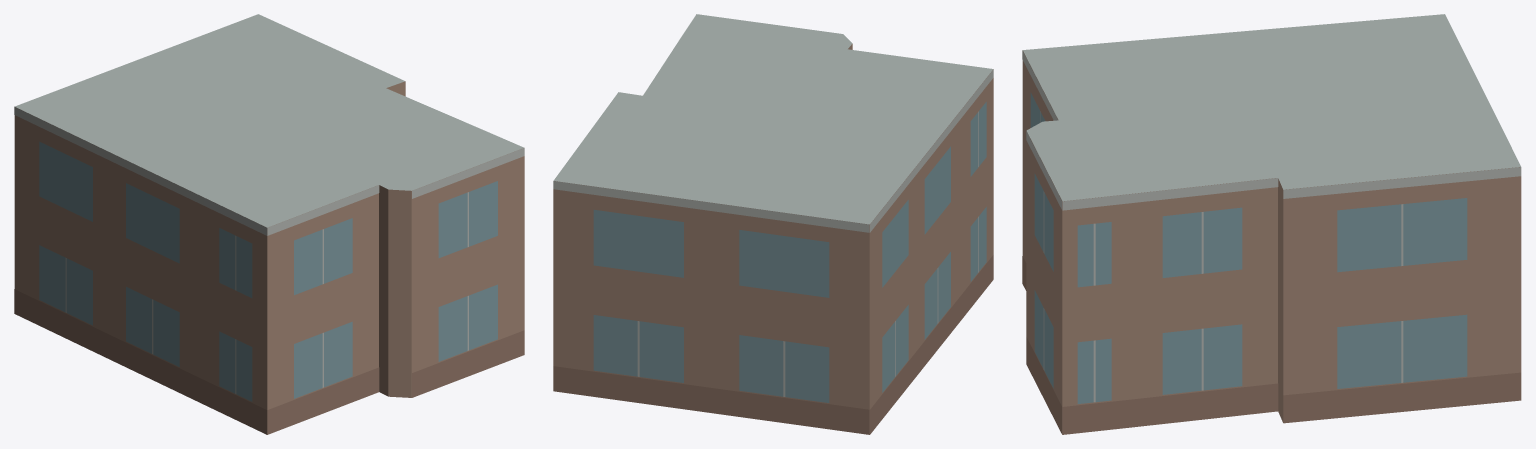
Rendered from survey-upis-33037895.glb.
The picture shows the model from 3 angles, left to right: view 1: azimuth 30°, elevation 25°; view 2: azimuth 150°, elevation 25°; view 3: azimuth 270°, elevation 25°; orthographic projection. The views are drawn at different scales.
Parts seen in each view (by area): view 1: survey-upis-33037895.tmp; view 2: survey-upis-33037895.tmp; view 3: survey-upis-33037895.tmp.
Part boxes in pixels (x1,y1,x2,y2): survey-upis-33037895.tmp: (14,14,524,434); survey-upis-33037895.tmp: (553,14,993,434); survey-upis-33037895.tmp: (1022,14,1521,434).
Size of the model in its own units: 10.5 by 6.1 by 11.82.
